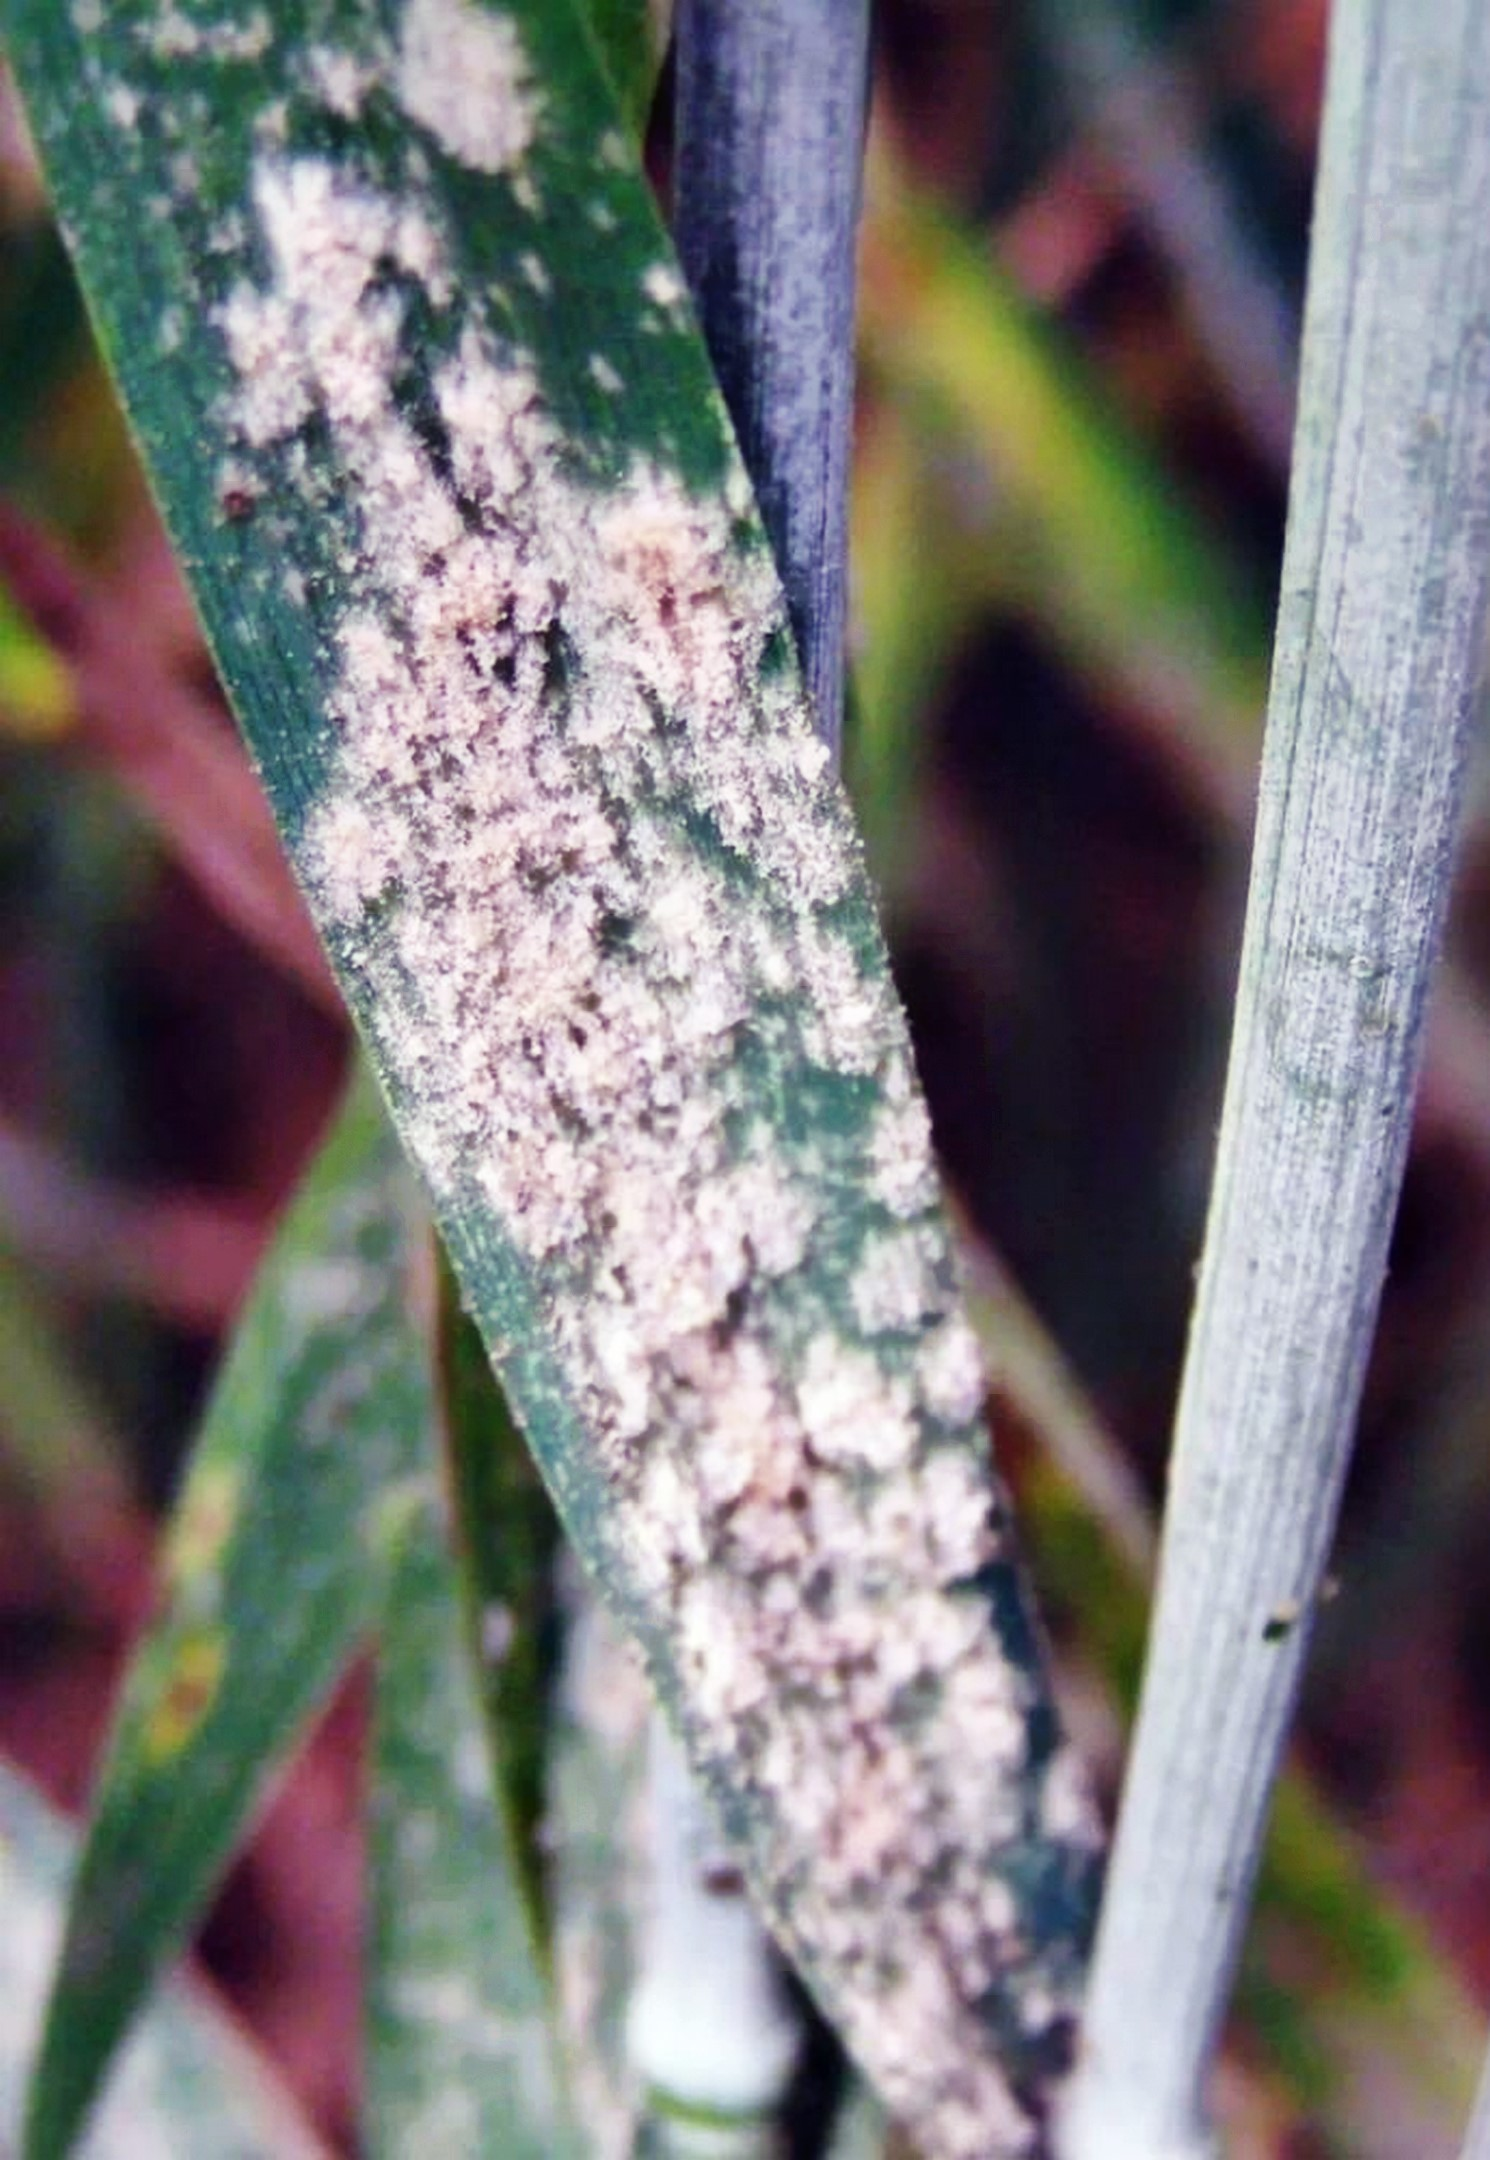Powdery Mildew: (222, 205, 1032, 1837)
